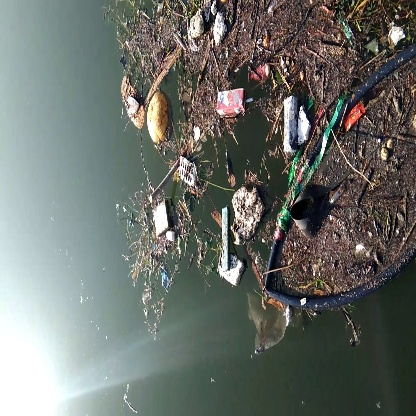milk-box: (215, 83, 248, 122)
